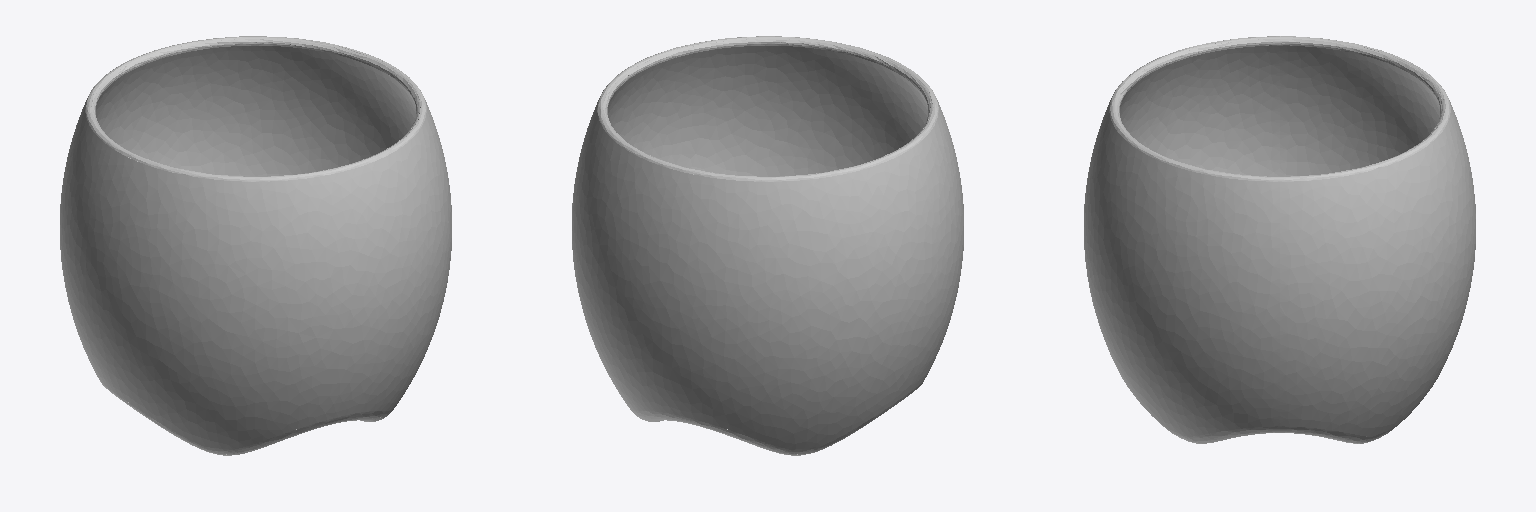
File: whiskey2.obj
3 views of the same model, side by side, from view 1: azimuth 30°, elevation 25°; view 2: azimuth 150°, elevation 25°; view 3: azimuth 270°, elevation 25° (orthographic).
Parts seen in each view (by area): view 1: Objeto Objeto1; view 2: Objeto Objeto1; view 3: Objeto Objeto1.
Boxes of the visible parts, box(x1,y1,x2,y2) form: Objeto Objeto1: box(60, 36, 451, 455); Objeto Objeto1: box(572, 36, 963, 455); Objeto Objeto1: box(1084, 36, 1475, 443).
Bounding box in the file's own units: 477 × 400 × 477.